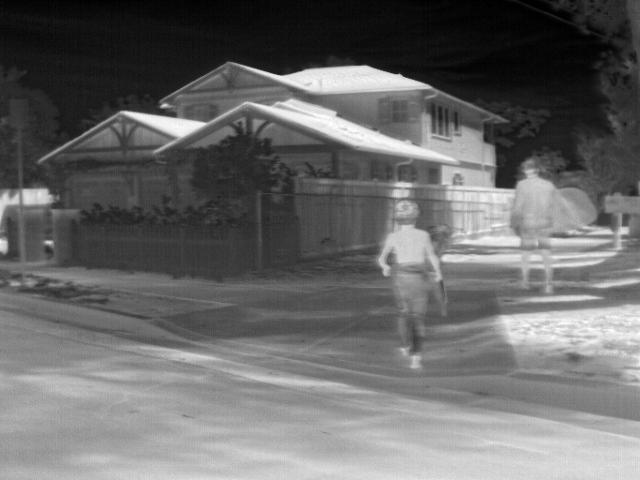dog: (433, 222, 452, 258)
person: (377, 199, 446, 371), (508, 158, 558, 296)
